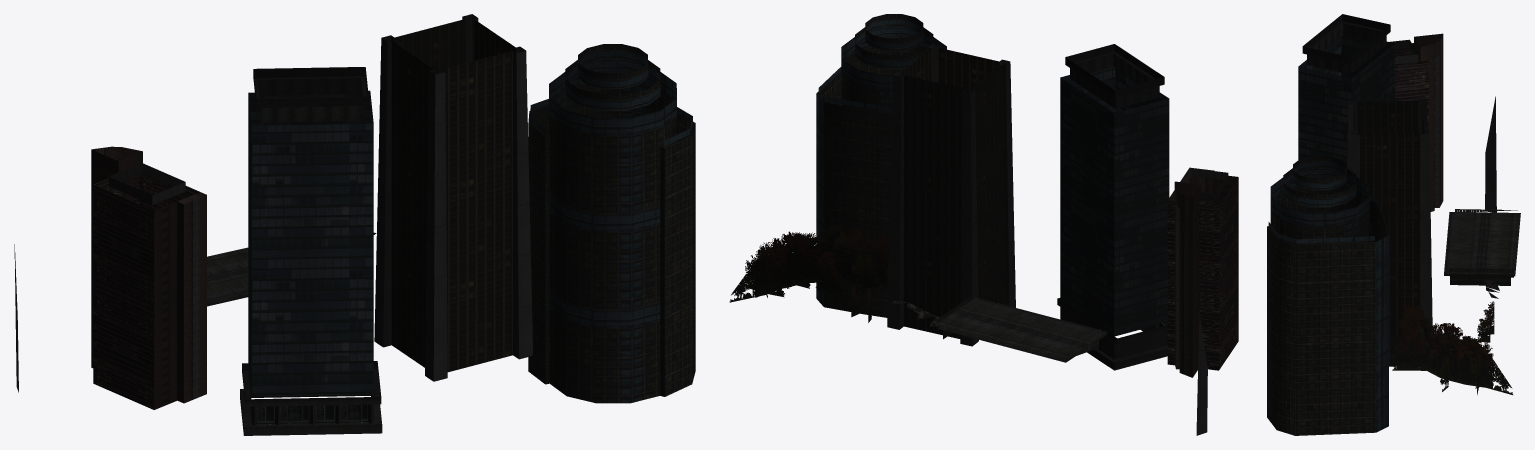
The model's file is cell_3_4.gltf.
The picture shows the model from 3 angles, left to right: view 1: azimuth 30°, elevation 25°; view 2: azimuth 150°, elevation 25°; view 3: azimuth 270°, elevation 25°; orthographic projection. The views are drawn at different scales.
Parts seen in each view (by area): view 1: cell_3_4; view 2: cell_3_4; view 3: cell_3_4.
Boxes of the visible parts, bbox=[...] form: cell_3_4: bbox=[14, 14, 695, 435]; cell_3_4: bbox=[729, 14, 1238, 435]; cell_3_4: bbox=[1267, 14, 1520, 435].
Size of the model in its own units: 250 by 147 by 126.
Materials: 13 (13 with a texture image).
